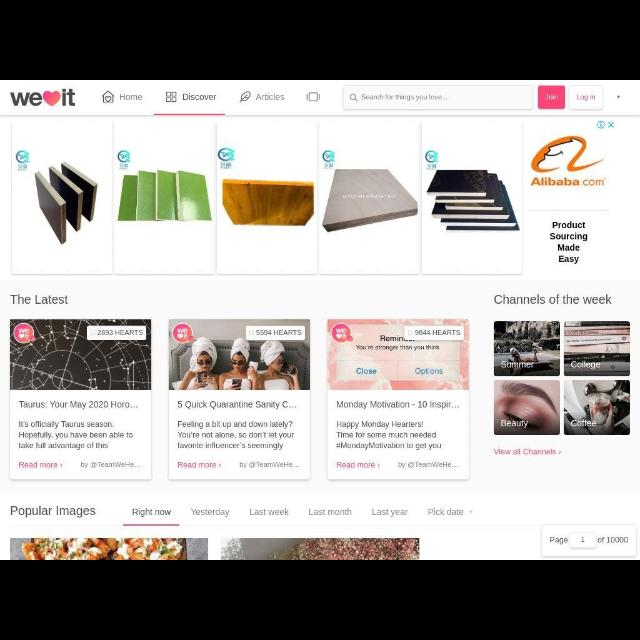icon: (102, 91, 116, 103), (306, 91, 320, 102), (239, 91, 251, 102), (166, 91, 177, 102), (349, 94, 358, 102), (407, 329, 413, 336), (468, 508, 474, 514), (90, 329, 96, 335), (58, 462, 64, 468), (248, 331, 254, 335), (218, 462, 222, 468), (616, 95, 620, 99), (377, 464, 381, 468), (558, 450, 560, 456)
iframe: (12, 120, 616, 276)
image: (328, 318, 470, 389), (169, 319, 311, 389), (10, 319, 150, 389), (11, 537, 208, 559), (221, 539, 419, 559), (564, 378, 630, 436), (495, 321, 561, 375), (564, 321, 630, 375), (493, 380, 559, 434), (9, 88, 79, 109)
input: (344, 86, 534, 110)
multitab: (7, 496, 479, 524)
panel: (327, 320, 471, 480), (169, 317, 311, 477), (10, 320, 152, 480)
spinner: (424, 506, 476, 518)
text: (176, 419, 298, 451), (334, 420, 444, 452), (17, 420, 133, 450), (492, 292, 614, 308), (10, 504, 96, 520), (334, 400, 462, 410), (18, 399, 142, 409), (176, 399, 298, 409), (359, 92, 447, 102), (10, 293, 70, 305), (494, 446, 556, 456), (398, 459, 460, 469), (80, 460, 142, 470), (239, 460, 299, 470), (307, 507, 351, 517), (424, 507, 464, 518), (188, 507, 230, 517), (175, 460, 217, 470), (368, 508, 409, 518), (132, 506, 172, 516), (248, 507, 288, 517), (96, 327, 144, 335), (256, 328, 302, 336), (181, 93, 217, 103), (499, 418, 528, 430), (18, 461, 58, 469), (336, 460, 374, 468), (415, 329, 461, 335), (571, 418, 597, 428), (598, 537, 630, 545), (255, 93, 285, 101), (570, 361, 600, 369), (500, 362, 536, 368), (549, 536, 567, 546), (120, 93, 142, 101), (574, 94, 598, 100), (578, 536, 588, 544), (546, 94, 558, 100)
textbutton: (570, 84, 604, 110), (538, 84, 566, 110)
toolbar: (1, 81, 639, 115)
